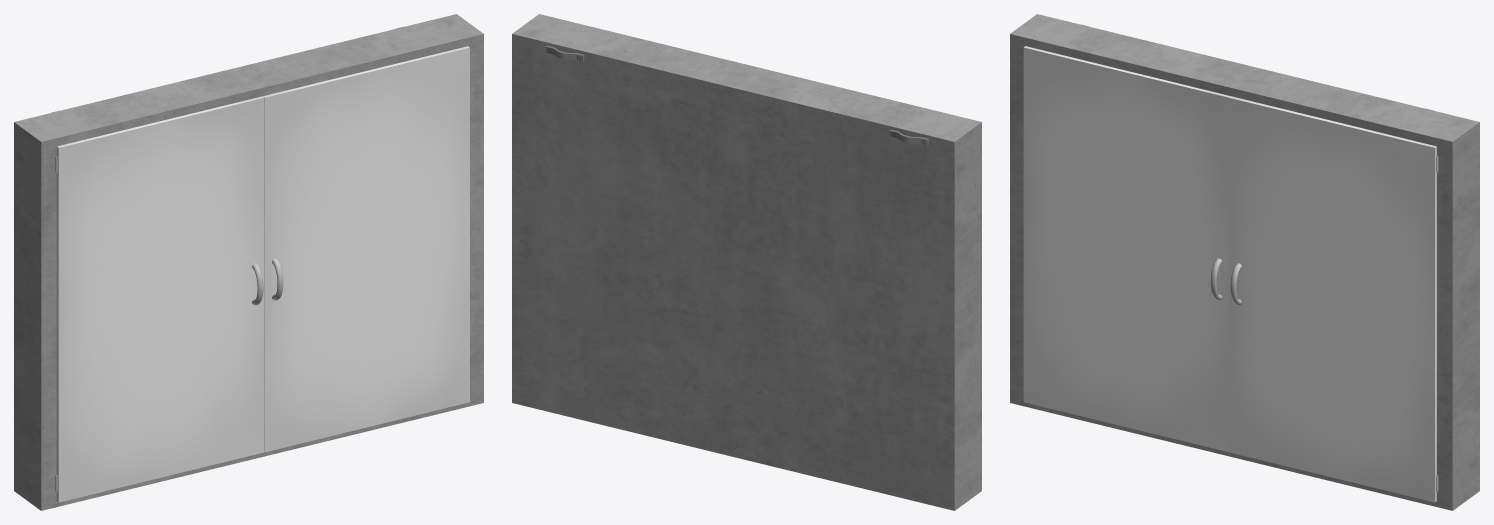
Rendered from KeysBox.FBX.
3 views of the same model, side by side, from view 1: azimuth 30°, elevation 25°; view 2: azimuth 150°, elevation 25°; view 3: azimuth 330°, elevation 25° (orthographic).
Parts seen in each view (by area): view 1: windows1, windows2, WoodBox; view 2: WoodBox; view 3: windows2, windows1, WoodBox.
Boxes of the visible parts, bbox=[...] form: windows1: bbox=[55, 96, 264, 502]; windows2: bbox=[263, 46, 469, 452]; WoodBox: bbox=[14, 14, 483, 510]; WoodBox: bbox=[512, 14, 981, 510]; windows2: bbox=[1229, 96, 1438, 502]; windows1: bbox=[1023, 46, 1230, 452]; WoodBox: bbox=[1010, 14, 1479, 510].
Size of the model in its own units: 270 by 215 by 41.85.
